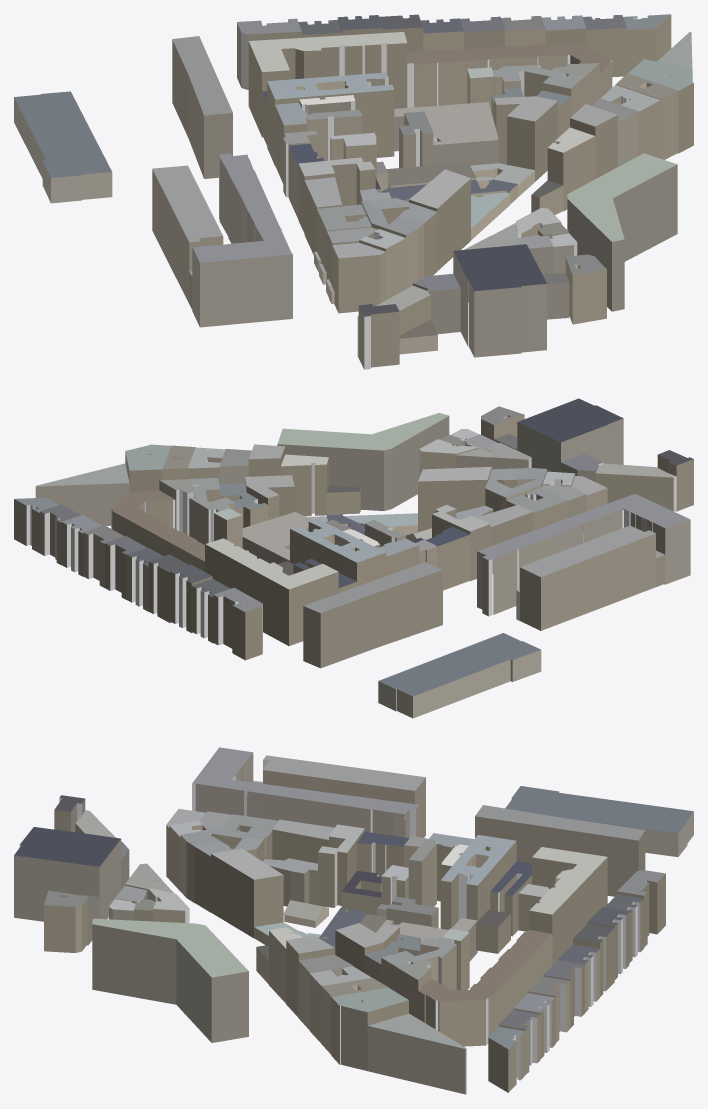
The picture shows the model from 3 angles, top to bottom: view 1: azimuth 30°, elevation 25°; view 2: azimuth 150°, elevation 25°; view 3: azimuth 270°, elevation 25°; orthographic projection. The views are drawn at different scales.
Visible parts, largest first — view 1: tuile; view 2: tuile; view 3: tuile.
Boxes of the visible parts, bbox=[...] form: tuile: bbox=[14, 14, 693, 369]; tuile: bbox=[14, 398, 693, 718]; tuile: bbox=[14, 747, 693, 1094].
Size of the model in its own units: 280 by 40.46 by 281.
